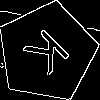K: (22, 27, 79, 84)
